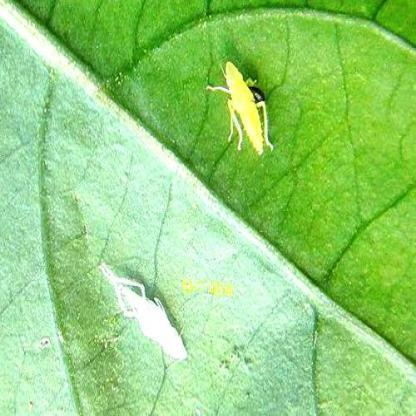green-leafhopper: (214, 57, 274, 155)
